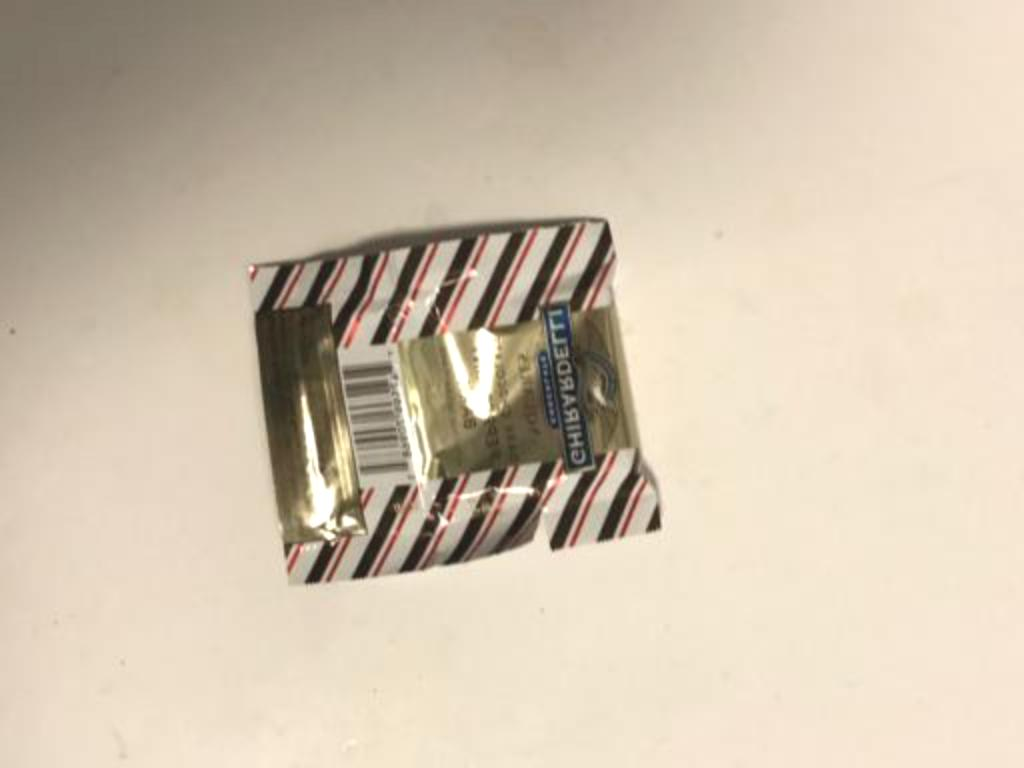garbage: (225, 194, 685, 612)
